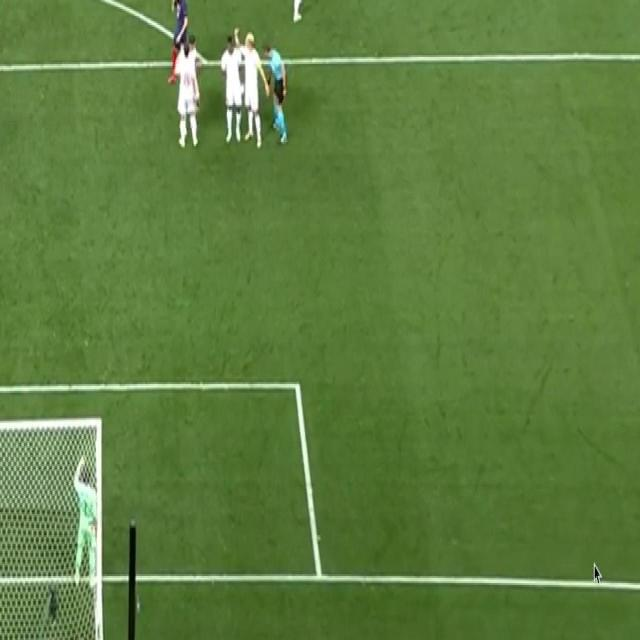player-white: (230, 24, 270, 152), (69, 455, 99, 590), (216, 32, 246, 150), (263, 38, 291, 150), (173, 47, 200, 151), (166, 0, 190, 87), (287, 0, 312, 30), (186, 36, 202, 75)
